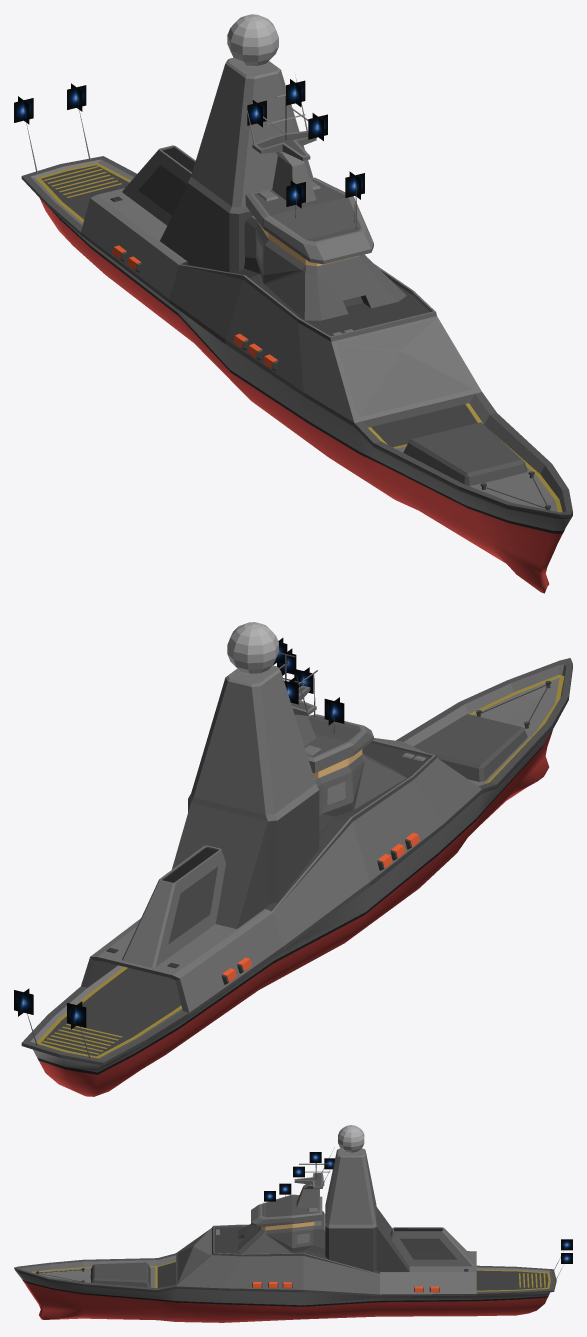
Rendered from model_polyfleet_battleship07.fbx.
3 renders of one model, top to bottom at view 1: azimuth 30°, elevation 25°; view 2: azimuth 150°, elevation 25°; view 3: azimuth 270°, elevation 25°, orthographic. The views are drawn at different scales.
Parts seen in each view (by area): view 1: model_polyfleet_battleship07, emissivelight; view 2: model_polyfleet_battleship07, emissivelight; view 3: model_polyfleet_battleship07, emissivelight.
Boxes of the visible parts, x1,y1,x2,y2 form: model_polyfleet_battleship07: (21,14,572,593); emissivelight: (14,79,364,266); model_polyfleet_battleship07: (21,622,572,1096); emissivelight: (14,638,362,1029); model_polyfleet_battleship07: (14,1125,566,1322); emissivelight: (261,1152,572,1263).
Size of the model in its own units: 928 by 2138 by 5604.
